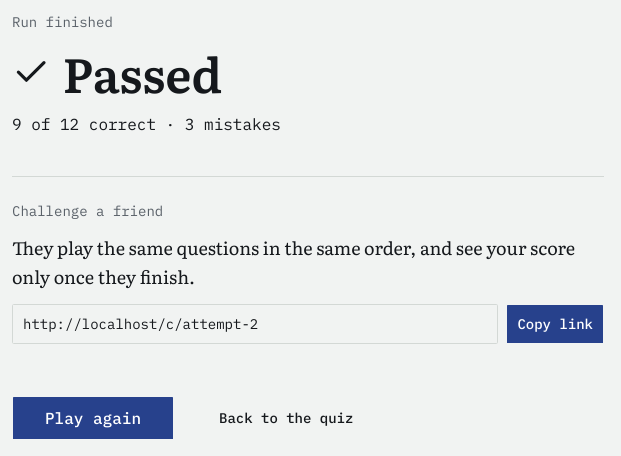
Test: run summary play again › says Starting and is disabled while the replay is in flight
Click the button "Play again".
click(93, 418)  # box top-left (12, 396), bottom-right (174, 440)
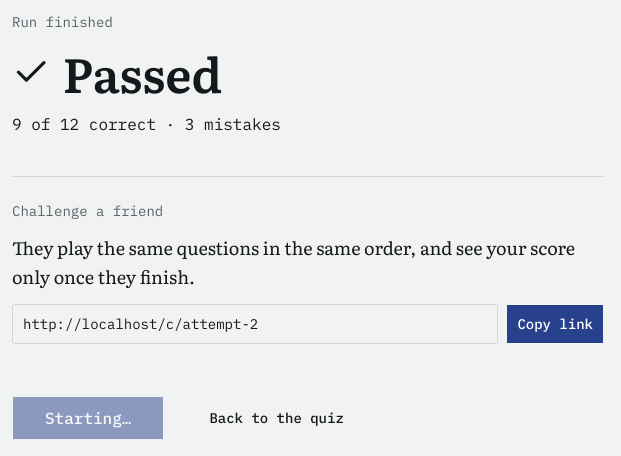
Expected: the button "Starting…" is disabled, top-left (12, 396), bottom-right (164, 440)
Expected: the button "Play again" is gone
